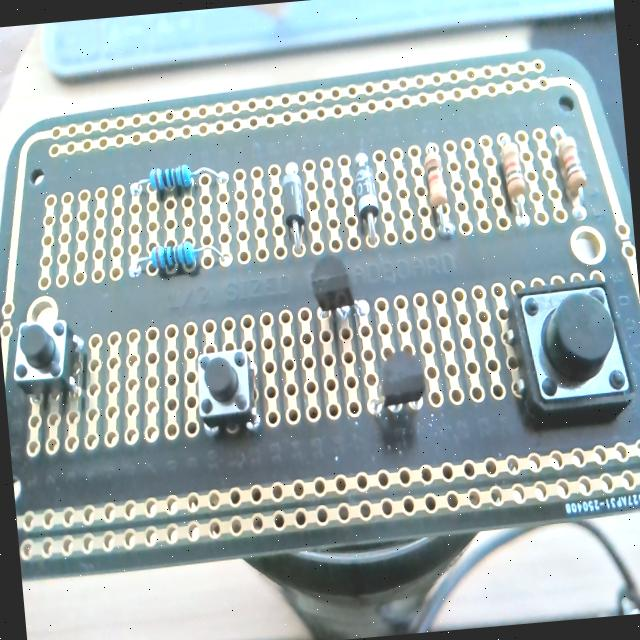diode: (352, 150, 384, 247), (279, 162, 310, 258)
resistor: (126, 236, 230, 279), (129, 160, 228, 198), (552, 126, 590, 220), (421, 141, 455, 239), (499, 134, 531, 228)
switch: (504, 276, 636, 422), (8, 314, 88, 408), (192, 345, 261, 436)
transistor: (363, 339, 430, 423), (305, 248, 373, 327)
